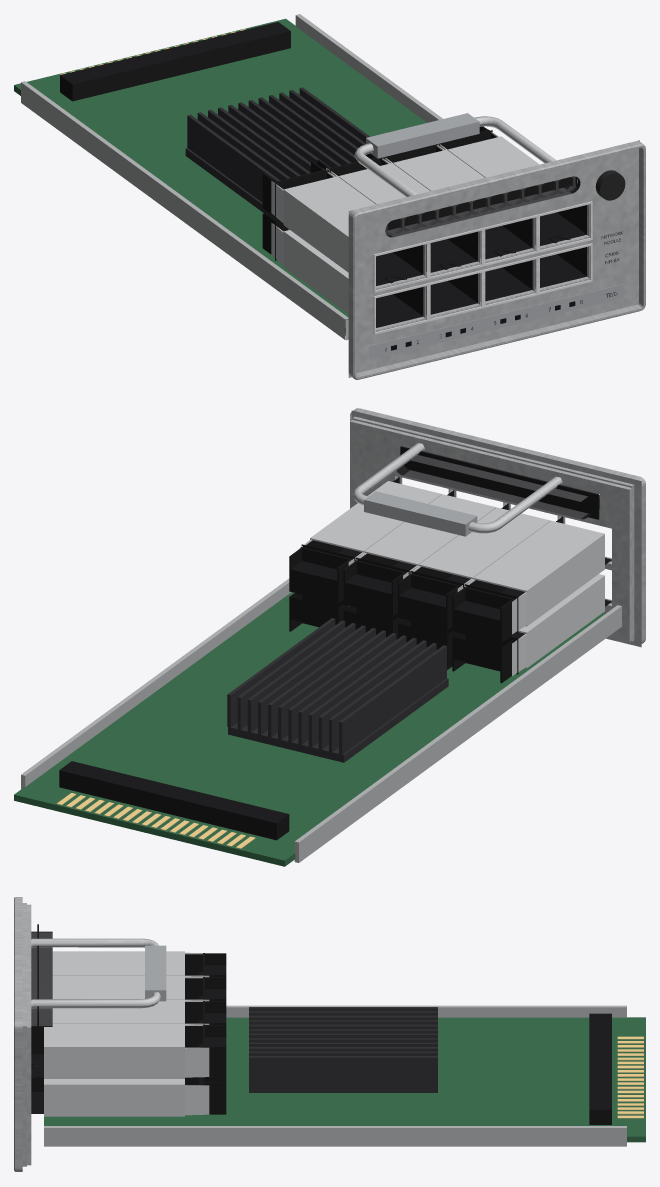
3 renders of one model, top to bottom at view 1: azimuth 30°, elevation 25°; view 2: azimuth 150°, elevation 25°; view 3: azimuth 270°, elevation 25°, orthographic. The views are drawn at different scales.
Visible parts, largest first — view 1: Body; view 2: Body; view 3: Body.
Boxes of the visible parts, x1,y1,x2,y2 form: Body: (14,14,645,379); Body: (14,408,645,866); Body: (14,897,645,1171).
Bounding box in the file's own units: 0.0805 × 0.0438 × 0.1672.
15 materials, 3 textured.
